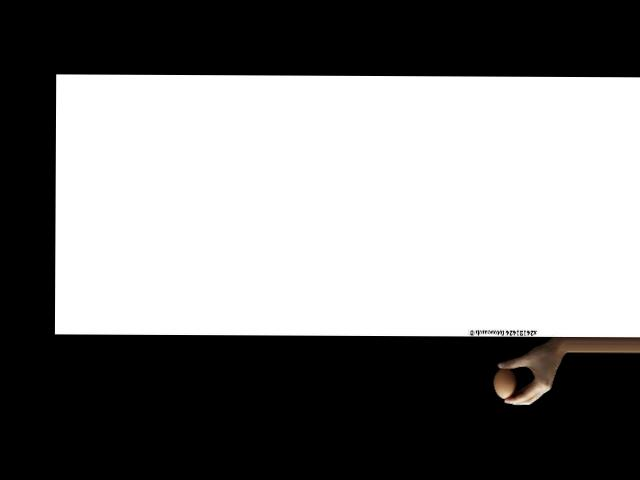egg: (493, 368, 515, 399)
